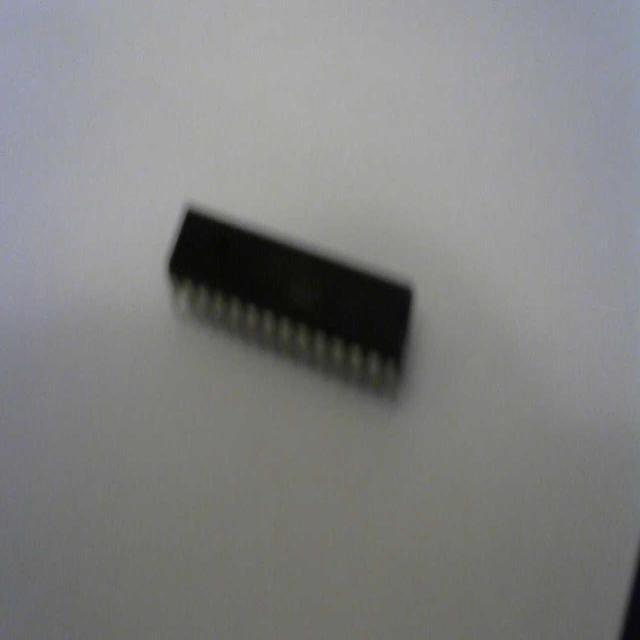atmega: (165, 198, 416, 406)
